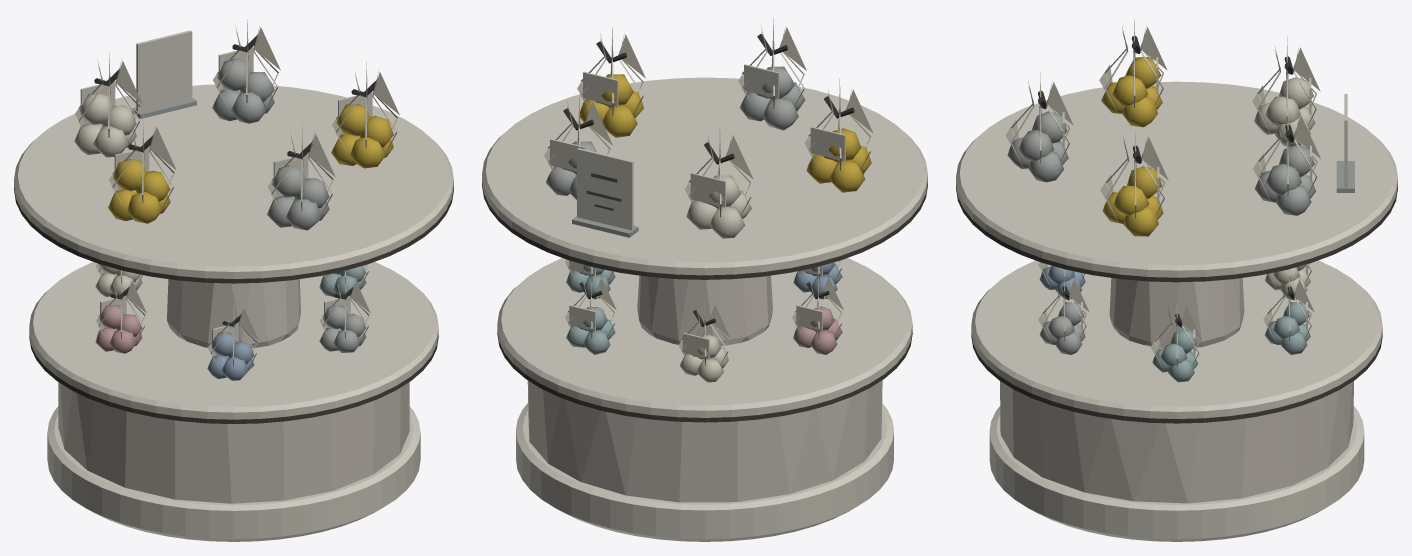
Rendered from stand.glb.
The picture shows the model from 3 angles, left to right: view 1: azimuth 30°, elevation 25°; view 2: azimuth 150°, elevation 25°; view 3: azimuth 270°, elevation 25°; orthographic projection.
Visible parts, largest first — view 1: Sees_stand; view 2: Sees_stand; view 3: Sees_stand.
Boxes of the visible parts, x1,y1,x2,y2 form: Sees_stand: [14, 19, 453, 541]; Sees_stand: [482, 18, 927, 541]; Sees_stand: [956, 19, 1397, 541].
Size of the model in its own units: 1.07 by 1.04 by 1.07.
